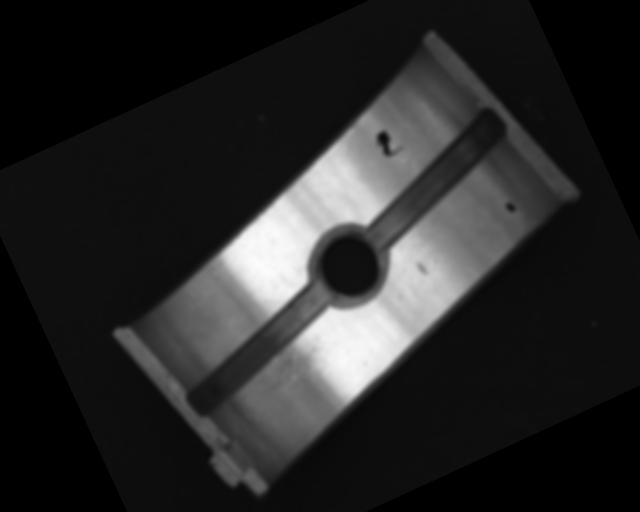blot: (371, 124, 405, 160), (503, 199, 518, 215)
bruise: (414, 258, 428, 277)
gap: (337, 104, 532, 254), (165, 277, 354, 418)
hole: (299, 217, 399, 316)
scratch: (224, 335, 339, 426)
